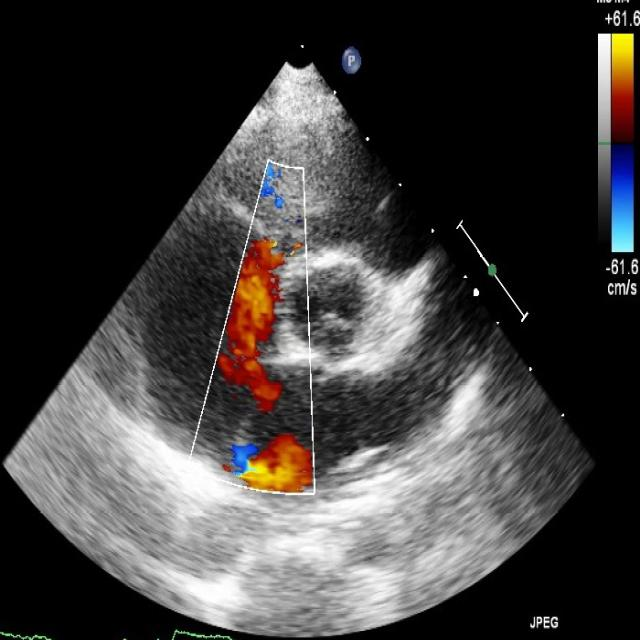ASDType2: (212, 349, 288, 418)
